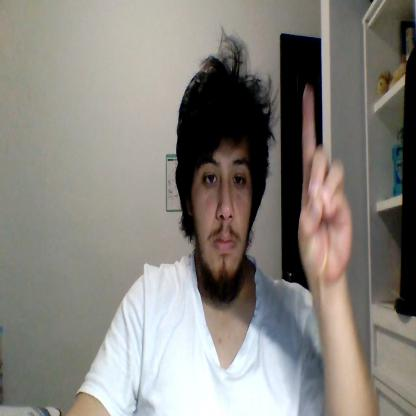D: (298, 84, 353, 284)
